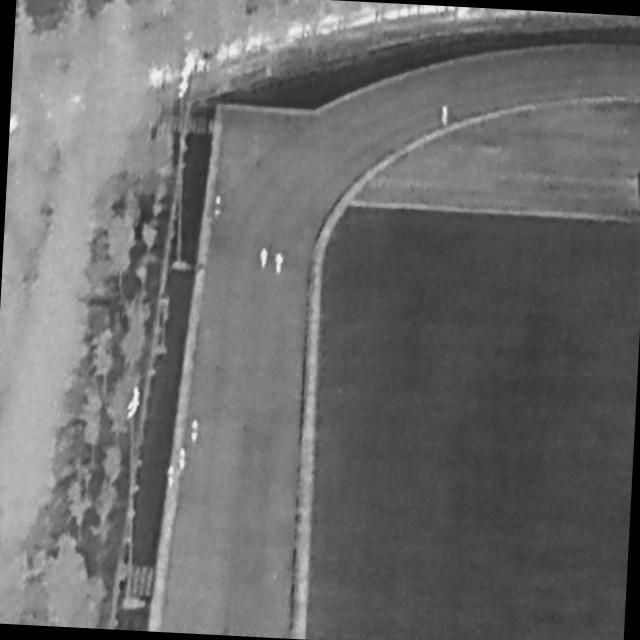person: (275, 252, 286, 277), (260, 248, 270, 271), (192, 420, 201, 445), (178, 448, 187, 472), (216, 194, 224, 218), (168, 465, 176, 489), (443, 104, 450, 129)
